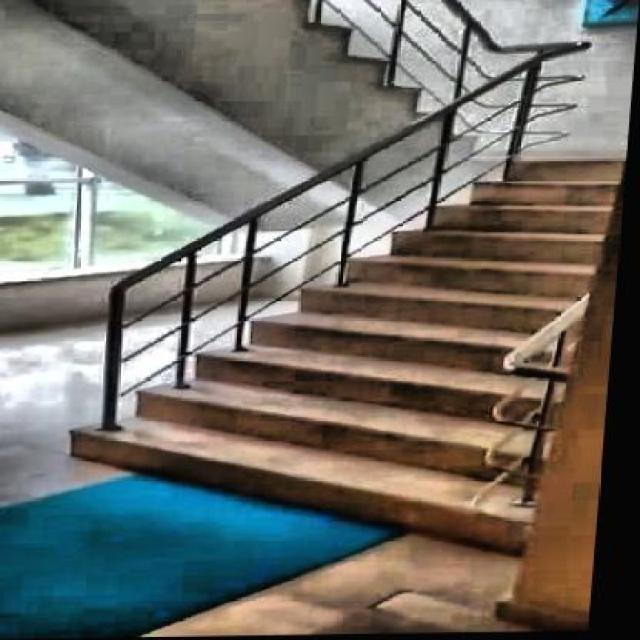stair: (47, 109, 630, 566)
